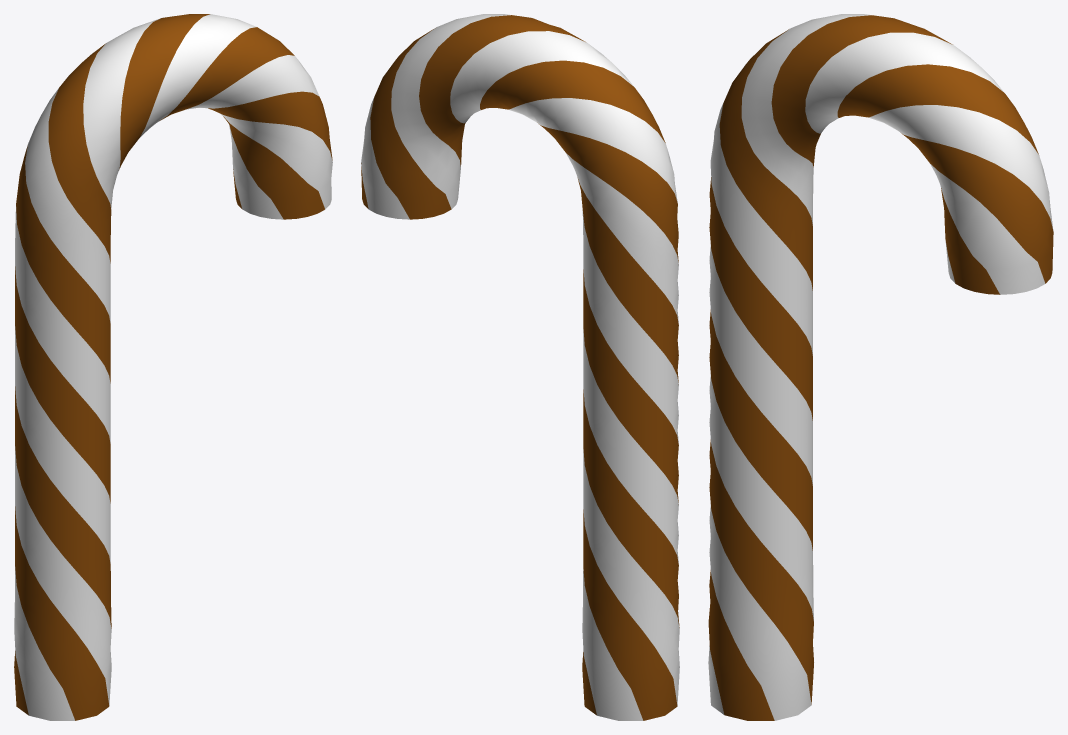
The model's file is Candy Cane_2.fbx.
3 renders of one model, left to right at view 1: azimuth 30°, elevation 25°; view 2: azimuth 150°, elevation 25°; view 3: azimuth 330°, elevation 25°, orthographic. The views are drawn at different scales.
Visible parts, largest first — view 1: Candy Cane_2; view 2: Candy Cane_2; view 3: Candy Cane_2.
Part boxes in pixels (x1,y1,x2,y2): Candy Cane_2: (14,14,332,720); Candy Cane_2: (361,14,679,720); Candy Cane_2: (708,14,1053,720).
Bounding box in the file's own units: 0.1251 × 0.2557 × 0.0357.
